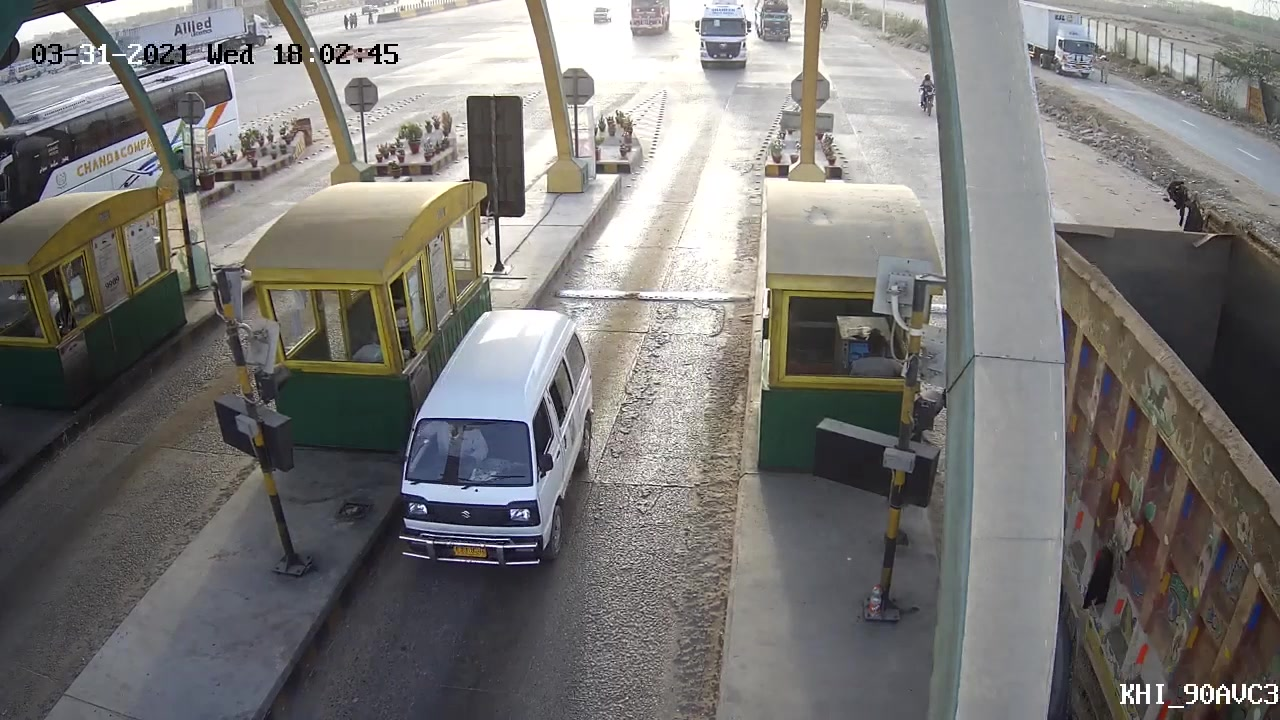F1: (384, 301, 606, 577)
